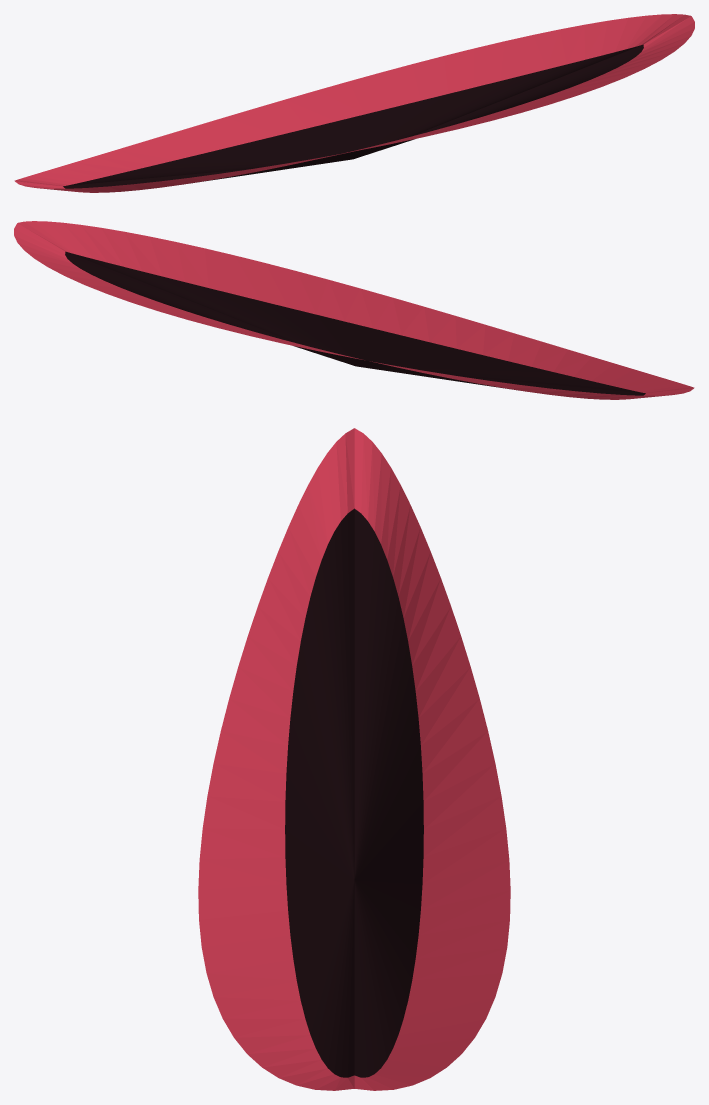
The model's file is viseme-ee.obj.
3 renders of one model, top to bottom at view 1: azimuth 30°, elevation 25°; view 2: azimuth 150°, elevation 25°; view 3: azimuth 270°, elevation 25°, orthographic. The views are drawn at different scales.
Parts seen in each view (by area): view 1: viseme_ee; view 2: viseme_ee; view 3: viseme_ee.
Boxes of the visible parts, bbox=[...] form: viseme_ee: bbox=[14, 14, 694, 192]; viseme_ee: bbox=[14, 221, 694, 399]; viseme_ee: bbox=[198, 428, 510, 1090].
Size of the model in its own units: 0.676 by 0.058 by 0.1351.
